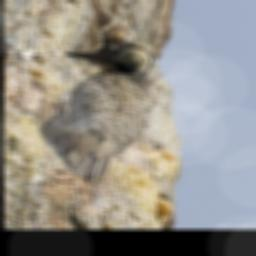Woodpecker: (41, 41, 154, 187)
